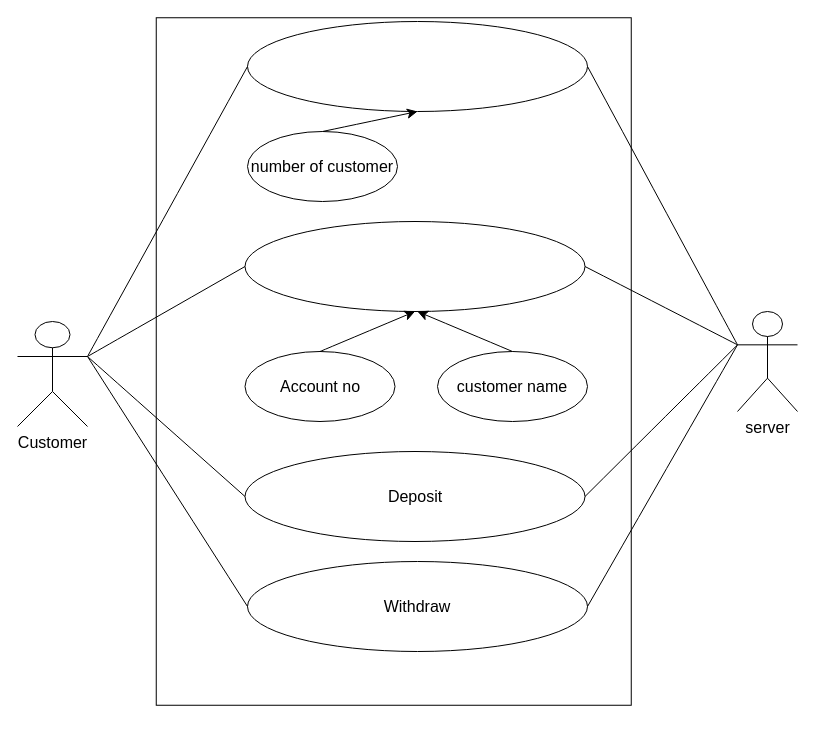
The diagram is 815 pixels wide and 733 high, and some of its shapes have lost their labels. The centre of each missing label's shape, as x and y in pixels:
Input Account: [417,66]
Search Account: [414,266]
